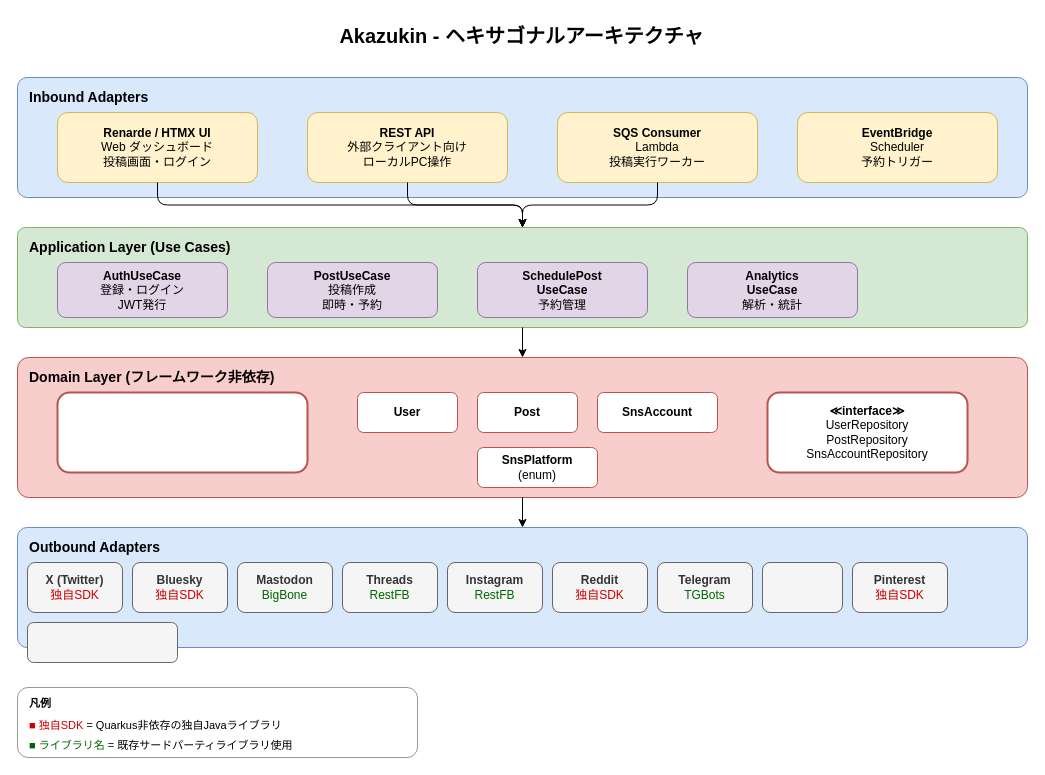
The diagram is 1045 pixels wide and 775 high, and some of its shapes have lost their labels. The shapes that lost their labels are listed below. From the top down, each one's centre as x and y in pixels, then its label:
(x=182, y=432): ≪interface≫ SnsAdapter post() / getTimeline() getProfile() / authenticate()
(x=802, y=587): VK vk-sdk
(x=102, y=642): DB / SQS Panache + SQS
